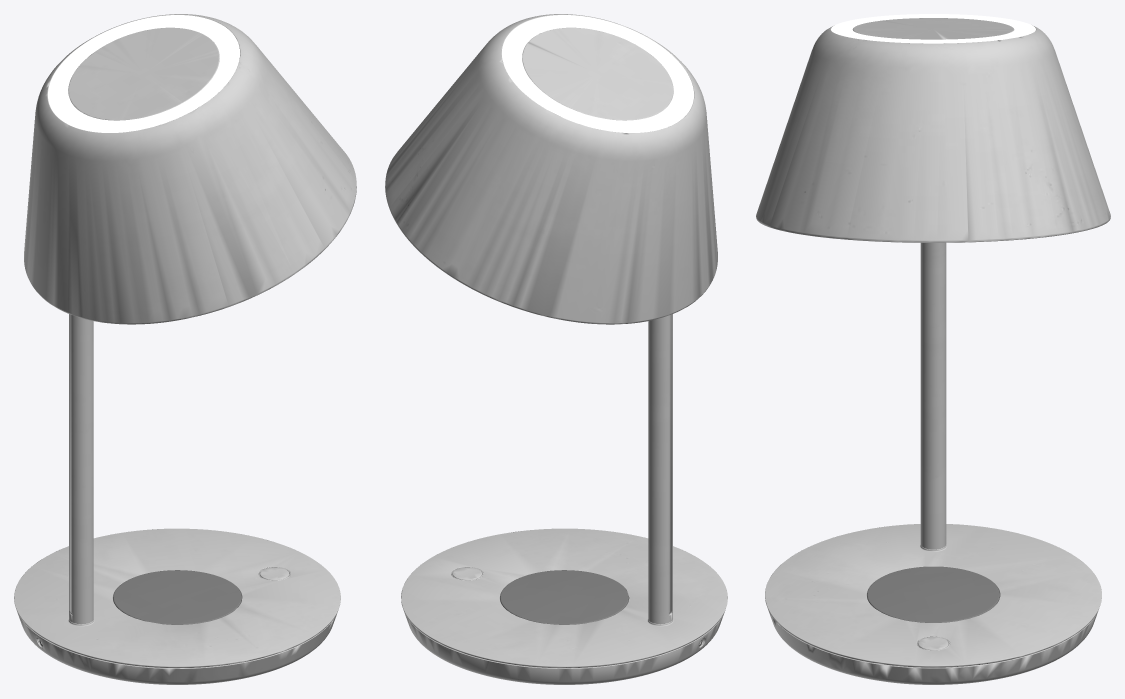
File: lamp_table_bedside_a01.glb
3 views of the same model, side by side, from view 1: azimuth 30°, elevation 25°; view 2: azimuth 150°, elevation 25°; view 3: azimuth 270°, elevation 25° (orthographic). The views are drawn at different scales.
Parts seen in each view (by area): view 1: base_01_mesh_00; view 2: base_01_mesh_00; view 3: base_01_mesh_00.
Part boxes in pixels (box(x1,y1,x2,y2)): base_01_mesh_00: box(14, 14, 356, 684); base_01_mesh_00: box(385, 14, 727, 684); base_01_mesh_00: box(756, 14, 1110, 684).
Bounding box in the file's own units: 0.1981 × 0.3716 × 0.1987.
Materials: 5 (4 with a texture image).
